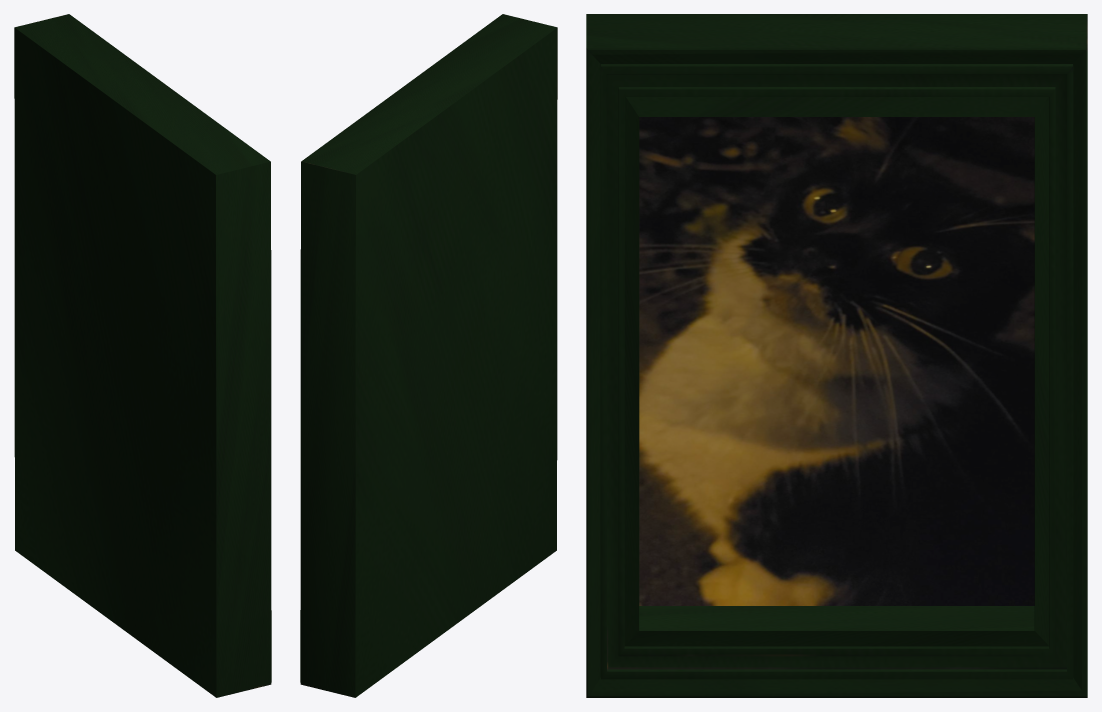
The model's file is valcatpictureframes.fbx.
3 views of the same model, side by side, from view 1: azimuth 30°, elevation 25°; view 2: azimuth 150°, elevation 25°; view 3: azimuth 270°, elevation 25° (orthographic). The views are drawn at different scales.
Parts seen in each view (by area): view 1: Cube.010; view 2: Cube.010; view 3: Cube.010.
Part boxes in pixels (x1,y1,x2,y2): Cube.010: (14,14,271,697); Cube.010: (300,14,557,697); Cube.010: (586,14,1087,697).
Bounding box in the file's own units: 42.27 × 368 × 257.
